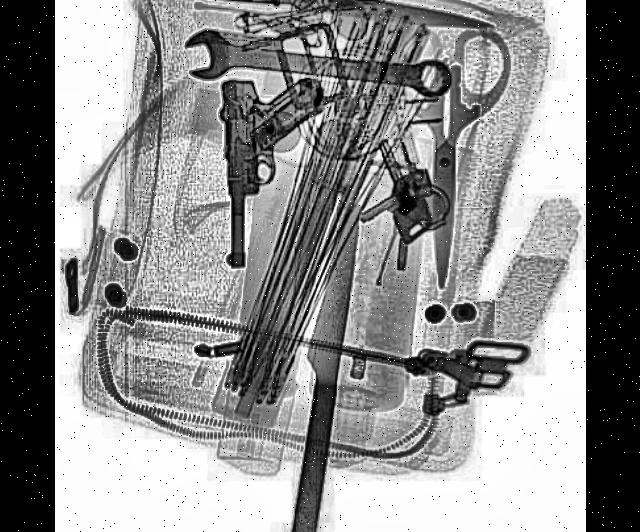Gun: (220, 79, 330, 271)
Knife: (278, 198, 363, 532), (411, 64, 481, 292), (149, 0, 494, 41)
Wrench: (184, 29, 453, 103)
